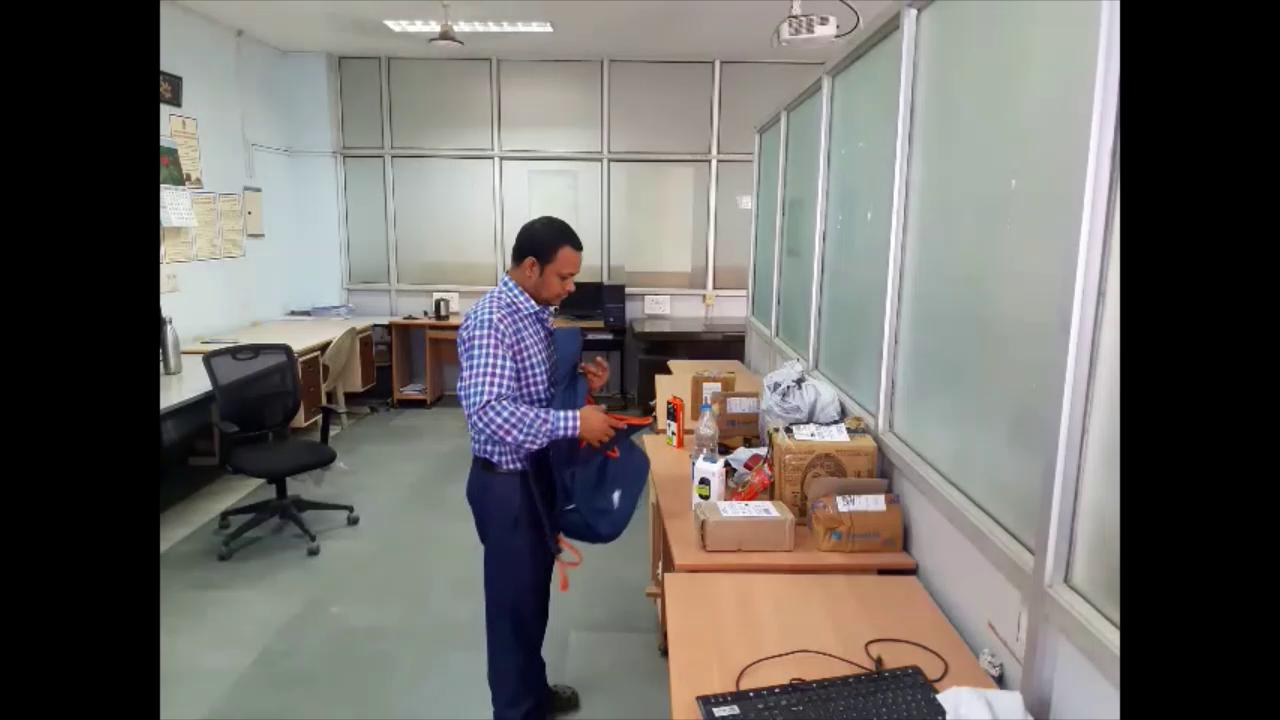shoplifting: (454, 207, 661, 719)
